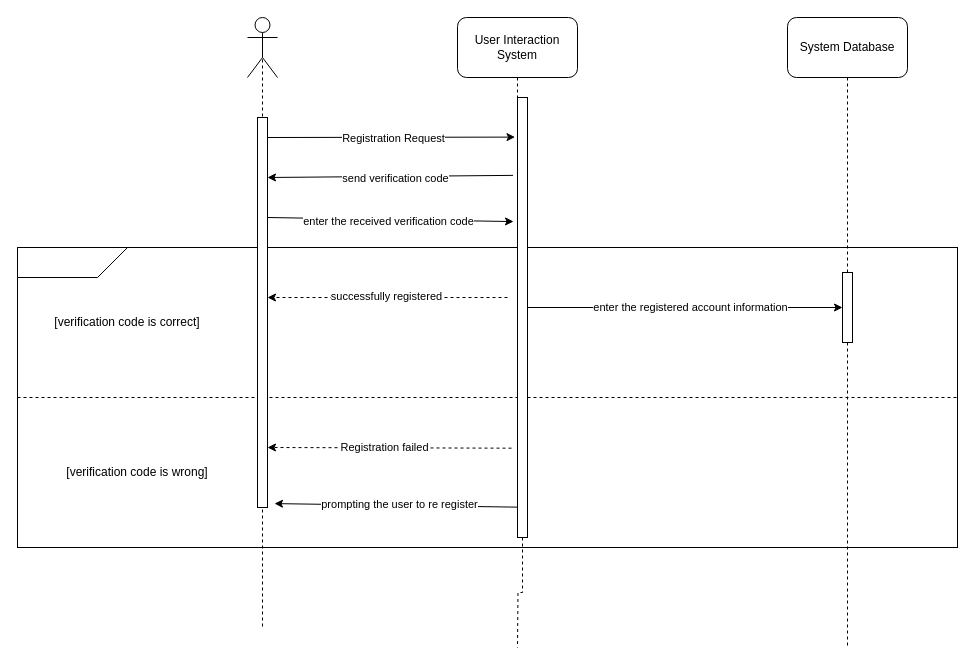
Some shapes in this 976 by 666 pixel diagram are drawn without their labels. The shapes that lost their labels are listed below. From the top down, each one's centre as x and y in pixels, then its label:
the point at 262,47: User
the point at 72,262: if
